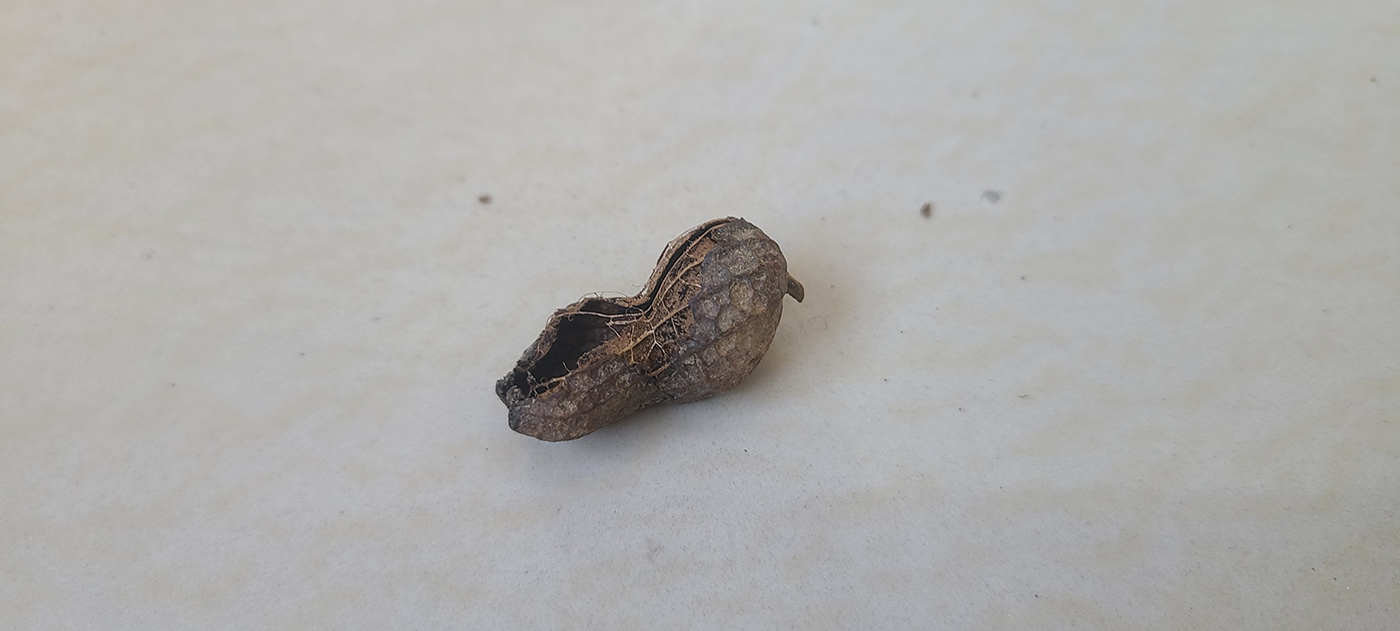l: (491, 216, 791, 444)
